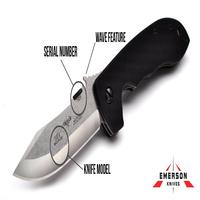knife: (8, 17, 183, 184)
